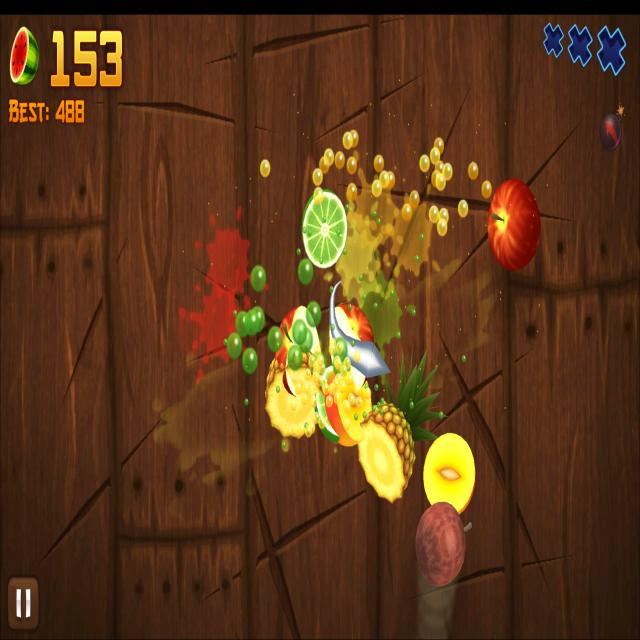fruit: (487, 180, 542, 271), (416, 503, 466, 589)
